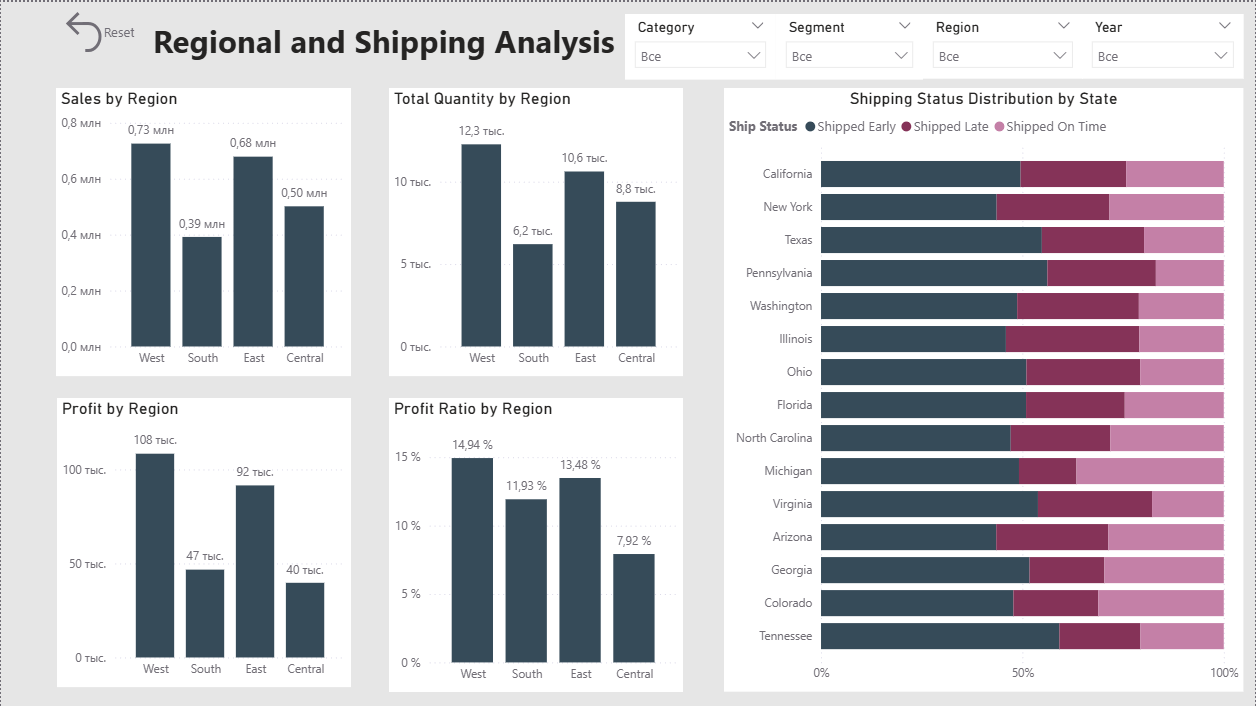

The dashboard page shown, as its layout file describes it:
{"tool":"powerbi","page":{"name":"Regional and Shipping Analysis","canvas":[1280,720],"ordinal":3},"visuals":[{"type":"textbox","box":[150.4,12.1,489.6,65.6],"z":0},{"type":"columnChart","title":"Sales by Region","fields":{"Category":["Sample - Superstore_Orders.Region"],"Y":["Sample - Superstore_Orders.Total Sales"]},"box":[56.5,87.8,300.8,293.8],"z":1000},{"type":"columnChart","title":"Profit by Region","fields":{"Category":["Sample - Superstore_Orders.Region"],"Y":["Sample - Superstore_Orders.Total Profit"]},"box":[57.5,403.8,299.8,294.8],"z":2000},{"type":"columnChart","title":"Total Quantity by Region","fields":{"Category":["Sample - Superstore_Orders.Region"],"Y":["Sample - Superstore_Orders.Total Quantity"]},"box":[395.7,87.8,299.8,293.8],"z":3000},{"type":"columnChart","title":"Profit Ratio by Region","fields":{"Category":["Sample - Superstore_Orders.Region"],"Y":["Sample - Superstore_Orders.Profit Ratio"]},"box":[395.7,403.8,299.8,299.8],"z":4000},{"type":"hundredPercentStackedBarChart","title":"Shipping Status Distribution by State","fields":{"Category":["Sample - Superstore_Orders.State"],"Y":["Sample - Superstore_Orders.Total Quantity"],"Series":["Sample - Superstore_Orders.Ship Status"]},"box":[737.9,87.8,530,615.8],"z":5000},{"type":"actionButton","box":[58.6,4.5,82.3,53],"z":5001},{"type":"slicer","fields":{"Values":["Calendar.Year"]},"box":[1103.3,12.1,164.5,65.6],"z":5002},{"type":"slicer","fields":{"Values":["Sample - Superstore_Orders.Region"]},"box":[940.8,12.1,162.5,65.6],"z":5003},{"type":"slicer","fields":{"Values":["Sample - Superstore_Orders.Segment"]},"box":[790.4,12.1,150.4,66.6],"z":5004},{"type":"slicer","fields":{"Values":["Sample - Superstore_Orders.Category"]},"box":[637,12.1,154.4,66.6],"z":5005}]}

Visuals, with their boxes in screenshot pixels (x1, y1, x2, y2), scaled from the page's 1280x720 canvas onto the 1256x706 screenshot:
textbox: <box>148,12,628,76</box>
"Sales by Region" columnChart: <box>55,86,351,374</box>
"Profit by Region" columnChart: <box>56,396,351,685</box>
"Total Quantity by Region" columnChart: <box>388,86,682,374</box>
"Profit Ratio by Region" columnChart: <box>388,396,682,690</box>
"Shipping Status Distribution by State" hundredPercentStackedBarChart: <box>724,86,1244,690</box>
actionButton: <box>58,4,138,56</box>
slicer - Calendar.Year: <box>1083,12,1244,76</box>
slicer - Sample - Superstore_Orders.Region: <box>923,12,1083,76</box>
slicer - Sample - Superstore_Orders.Segment: <box>776,12,923,77</box>
slicer - Sample - Superstore_Orders.Category: <box>625,12,777,77</box>
